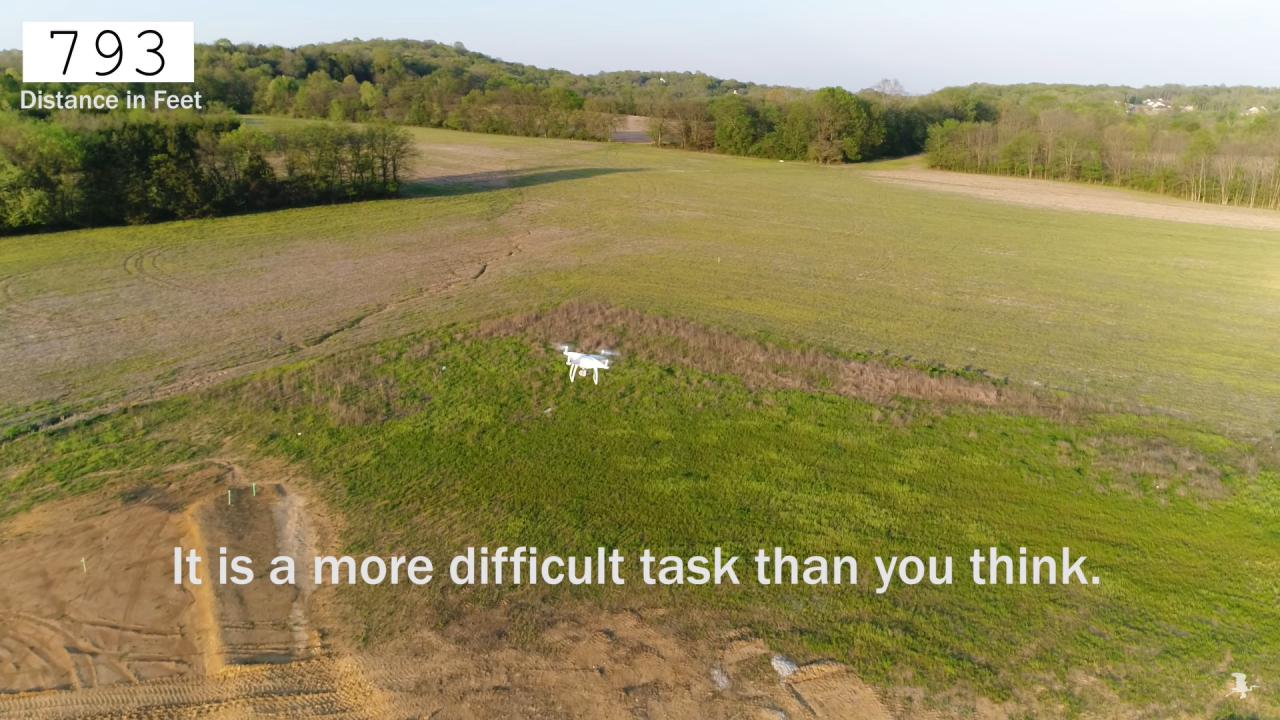Drone: (552, 332, 627, 391)
